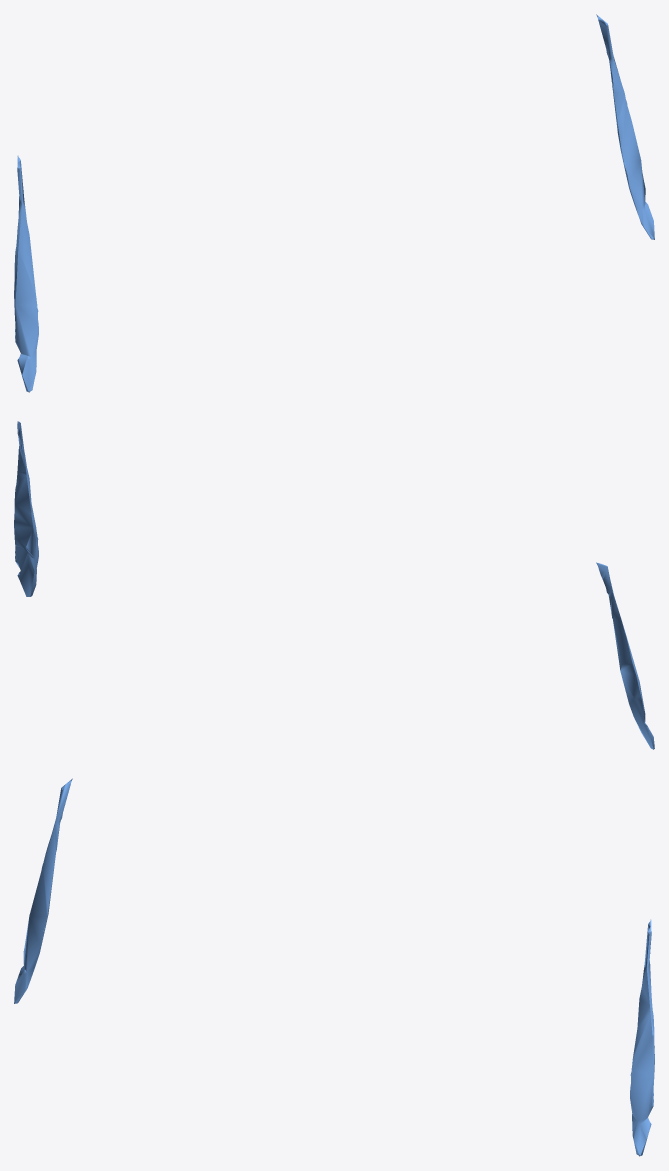
The model's file is supplement-elbow-forearm-connective.glb.
3 renders of one model, top to bottom at view 1: azimuth 30°, elevation 25°; view 2: azimuth 150°, elevation 25°; view 3: azimuth 330°, elevation 25°, orthographic.
Visible parts, largest first — view 1: supplemental:interosseous-membrane-of-forearm:isa:FJ1476, supplemental:interosseous-membrane-of-forearm:isa:FJ1476M; view 2: supplemental:interosseous-membrane-of-forearm:isa:FJ1476M, supplemental:interosseous-membrane-of-forearm:isa:FJ1476; view 3: supplemental:interosseous-membrane-of-forearm:isa:FJ1476M, supplemental:interosseous-membrane-of-forearm:isa:FJ1476.
Part boxes in pixels (left/top/right/bottom): supplemental:interosseous-membrane-of-forearm:isa:FJ1476: left=14, top=155, right=38, bottom=392; supplemental:interosseous-membrane-of-forearm:isa:FJ1476M: left=596, top=14, right=654, bottom=239; supplemental:interosseous-membrane-of-forearm:isa:FJ1476M: left=14, top=421, right=38, bottom=596; supplemental:interosseous-membrane-of-forearm:isa:FJ1476: left=596, top=562, right=654, bottom=749; supplemental:interosseous-membrane-of-forearm:isa:FJ1476M: left=630, top=919, right=654, bottom=1156; supplemental:interosseous-membrane-of-forearm:isa:FJ1476: left=14, top=778, right=72, bottom=1003.
Bounding box in the file's own units: 0.5011 × 0.1563 × 0.0481.
